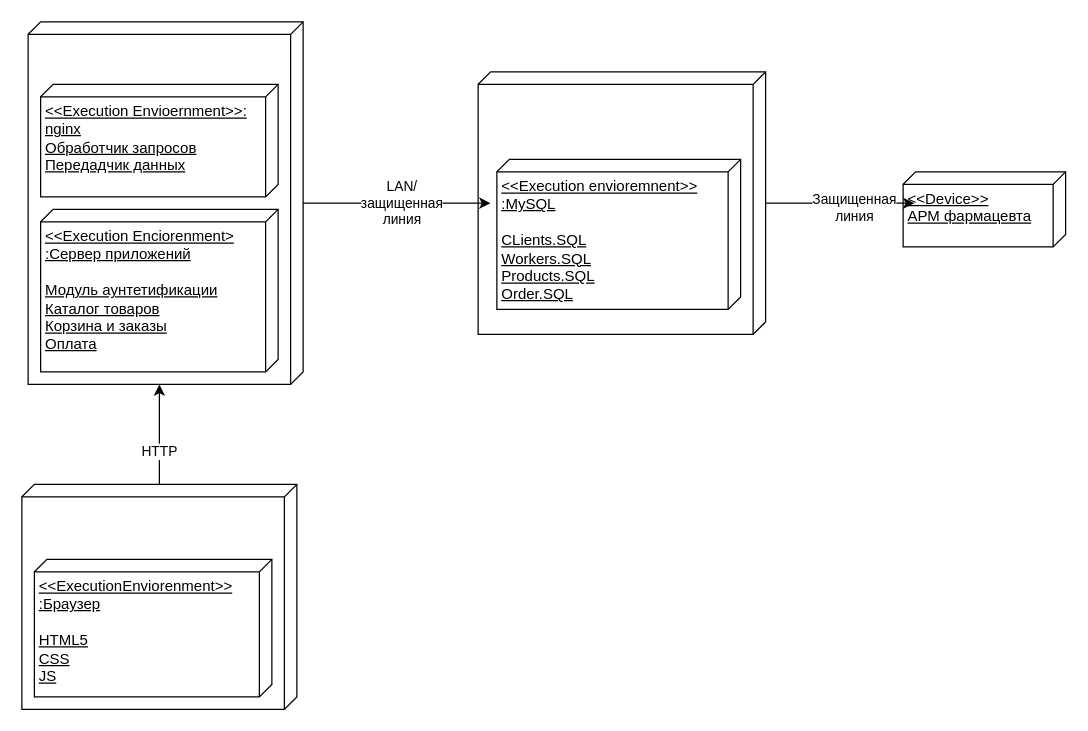
The diagram is 1088 pixels wide and 731 high, and some of its shapes have lost their labels. Each missing label, with the box of its shape:
<<device>> :Веб-сервер: (27, 21, 303, 384)
<<device>> :Сервер баз дынных: (477, 71, 766, 334)
<<device>> Устройство пользователя: (21, 483, 297, 709)
